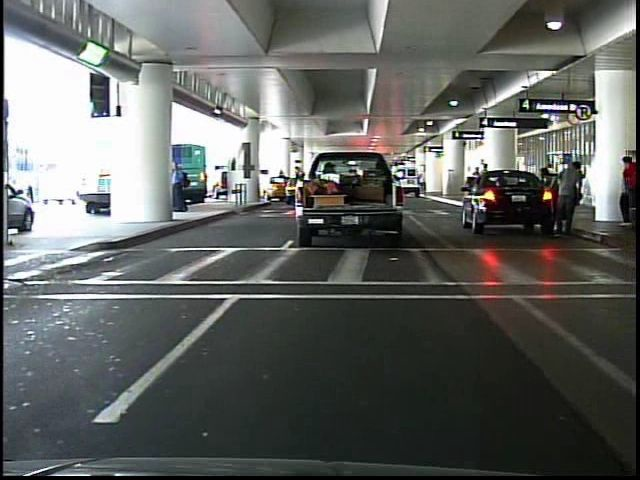person: (546, 152, 587, 240), (172, 151, 195, 217), (619, 150, 637, 197)
